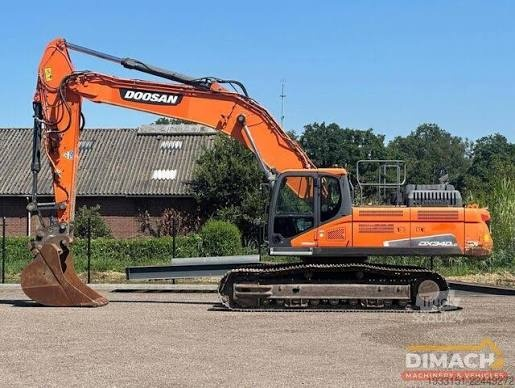excavator: (23, 25, 506, 329)
